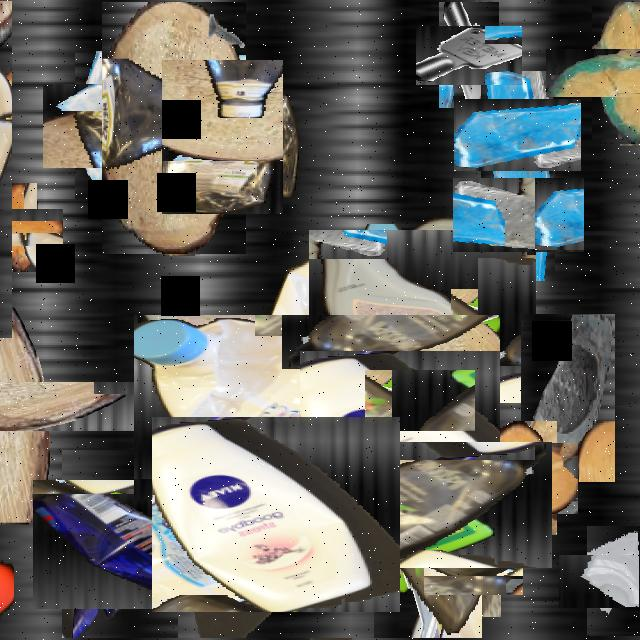glass: (521, 314, 615, 482), (58, 68, 175, 184), (466, 164, 570, 266), (467, 85, 567, 185), (231, 366, 317, 452), (434, 528, 512, 606), (572, 540, 640, 622)
metal: (377, 357, 463, 443), (428, 13, 510, 97), (100, 188, 140, 260)
plastic: (179, 269, 455, 545), (165, 403, 387, 625), (323, 216, 523, 417), (321, 407, 517, 603), (47, 464, 206, 624), (153, 68, 291, 206), (348, 430, 486, 566), (0, 2, 12, 340), (0, 471, 13, 638)
wood: (102, 2, 246, 254), (404, 430, 532, 558), (0, 336, 95, 477), (474, 432, 568, 524), (568, 25, 640, 120), (0, 196, 50, 259)
